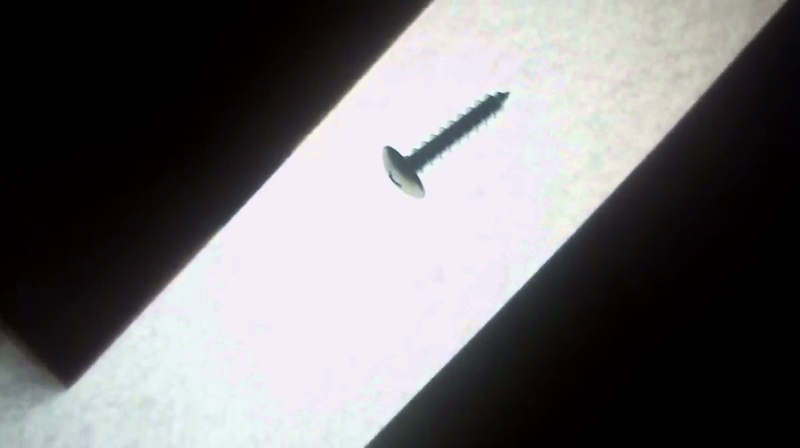S003: (377, 89, 515, 202)
